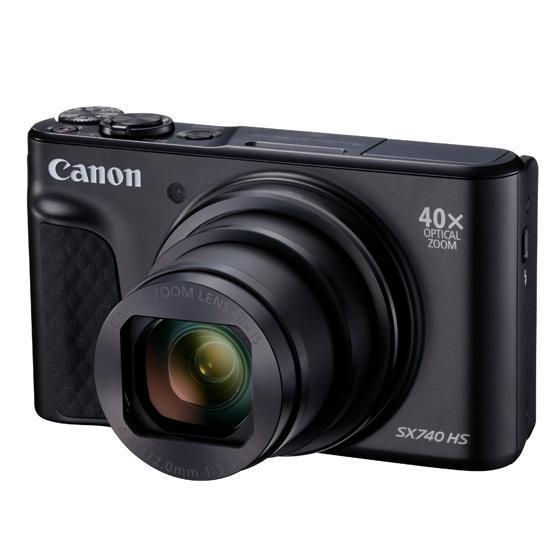degital-camera: (21, 101, 542, 492)
